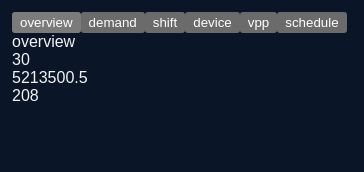
Scenario: 节能分析页面 › 切换标签页
Click the button with test id "tab-demand": coordinates (113, 22) [81,12,145,33]
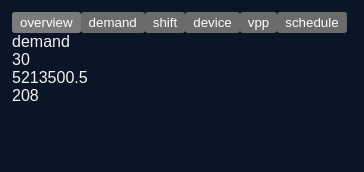
Expected: the text with test id "active-tab" reads "demand", [12,33,70,50]
